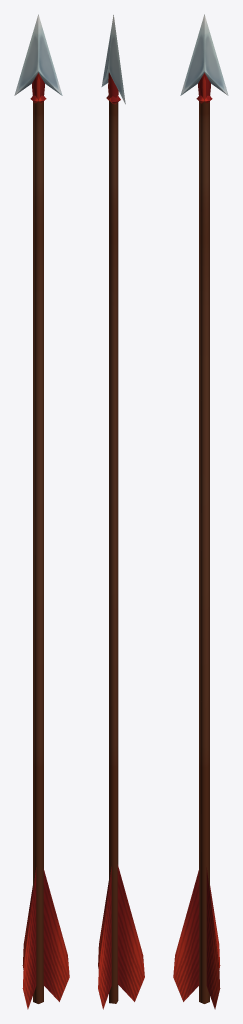
Rendered from Arrow01_mesh.FBX.
3 renders of one model, left to right at view 1: azimuth 90°, elevation 25°; view 2: azimuth 210°, elevation 25°; view 3: azimuth 270°, elevation 25°, orthographic.
Visible parts, largest first — view 1: Arrow01_mesh; view 2: Arrow01_mesh; view 3: Arrow01_mesh.
Boxes of the visible parts, <box> form: Arrow01_mesh: <box>14,14,69,1009</box>; Arrow01_mesh: <box>98,15,144,1009</box>; Arrow01_mesh: <box>173,14,228,1009</box>.
Bounding box in the file's own units: 1.92 × 38.57 × 1.96.
